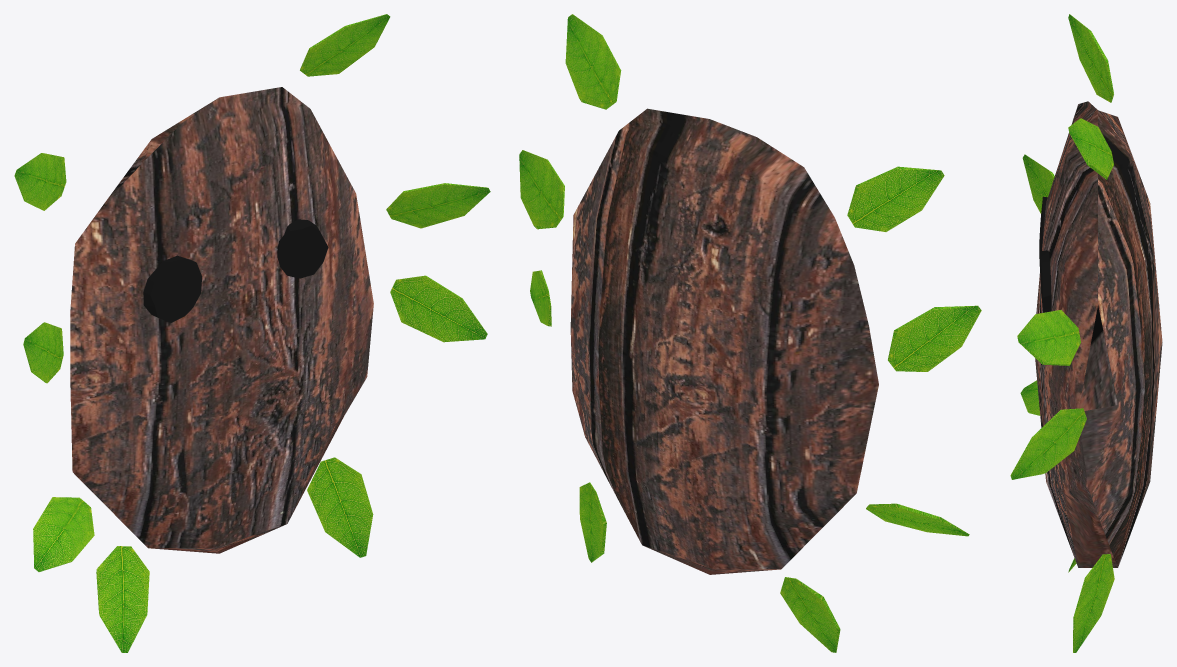
Rendered from mask.gltf.
3 renders of one model, left to right at view 1: azimuth 30°, elevation 25°; view 2: azimuth 150°, elevation 25°; view 3: azimuth 270°, elevation 25°, orthographic.
Parts seen in each view (by area): view 1: Mask, Leaf.004, Leaf.005, Leaf.003, Leaf.006, Leaf.002, Leaf.001, Leaf.008, Leaf.007; view 2: Mask, Leaf.008, Leaf.007, Leaf.001, Leaf.002, Leaf.005, Leaf.006, Leaf.004, Leaf.003; view 3: Mask, Leaf.003, Leaf.002, Leaf.004, Leaf.008, Leaf.001, Leaf.007, Leaf.006.
Part boxes in pixels (left/top/right/bottom): Mask: left=70, top=87, right=373, bottom=553; Leaf.004: left=307, top=457, right=373, bottom=557; Leaf.005: left=96, top=546, right=149, bottom=652; Leaf.003: left=390, top=275, right=487, bottom=342; Leaf.006: left=33, top=497, right=94, bottom=571; Leaf.002: left=386, top=183, right=490, bottom=228; Leaf.001: left=300, top=14, right=390, bottom=76; Leaf.008: left=14, top=153, right=66, bottom=210; Leaf.007: left=23, top=322, right=63, bottom=383; Mask: left=570, top=108, right=878, bottom=574; Leaf.008: left=847, top=166, right=944, bottom=231; Leaf.007: left=888, top=305, right=981, bottom=371; Leaf.001: left=565, top=14, right=621, bottom=109; Leaf.002: left=519, top=150, right=564, bottom=229; Leaf.005: left=780, top=577, right=840, bottom=652; Leaf.006: left=866, top=503, right=969, bottom=536; Leaf.004: left=579, top=482, right=606, bottom=562; Leaf.003: left=530, top=270, right=551, bottom=326; Mask: left=1035, top=101, right=1162, bottom=567; Leaf.003: left=1010, top=408, right=1086, bottom=479; Leaf.002: left=1017, top=310, right=1080, bottom=365; Leaf.004: left=1073, top=554, right=1114, bottom=652; Leaf.008: left=1068, top=14, right=1113, bottom=102; Leaf.001: left=1068, top=118, right=1113, bottom=179; Leaf.007: left=1022, top=154, right=1054, bottom=213; Leaf.006: left=1020, top=380, right=1040, bottom=415.
Bounding box in the file's own units: 8.27 × 9.78 × 2.36.
1 material, 1 textured.
